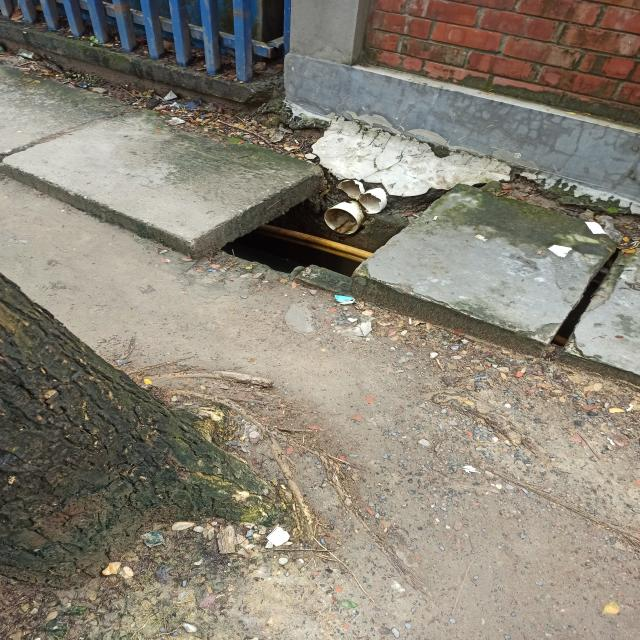drain_inlet: (186, 159, 457, 276)
